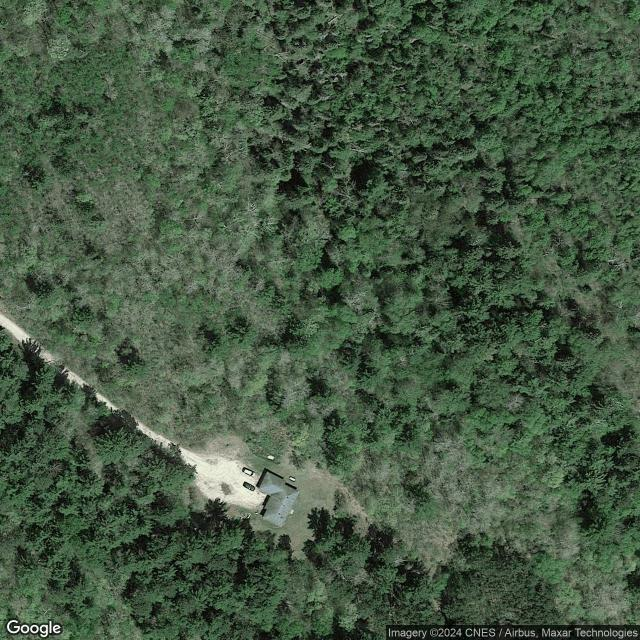Propane: (288, 475, 297, 483)
